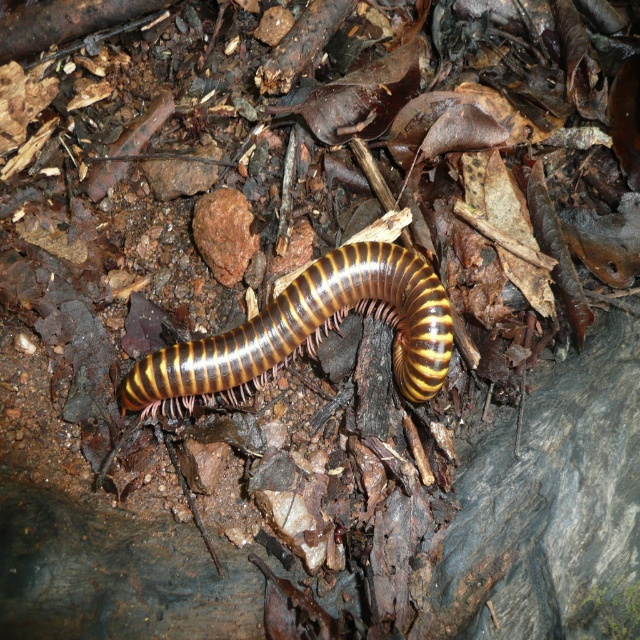Centipede: (120, 241, 453, 422)
